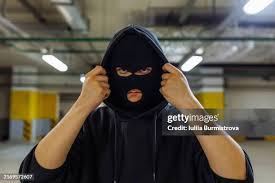terrorist: (47, 12, 216, 156)
